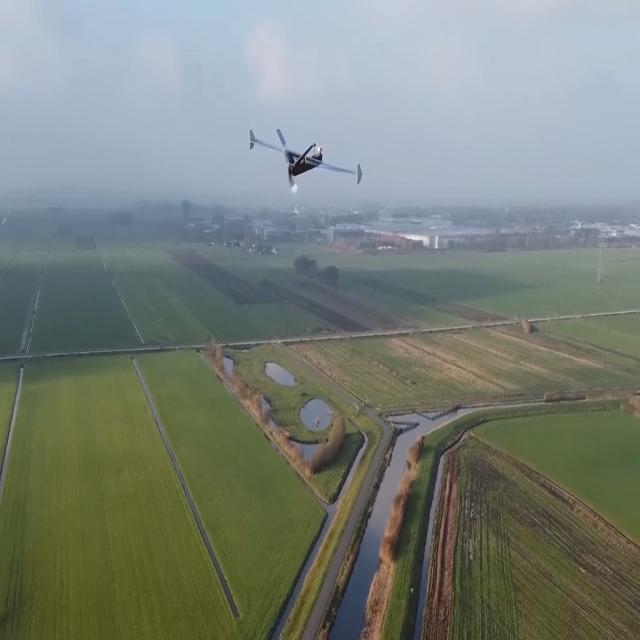iha: (274, 153, 329, 158)
